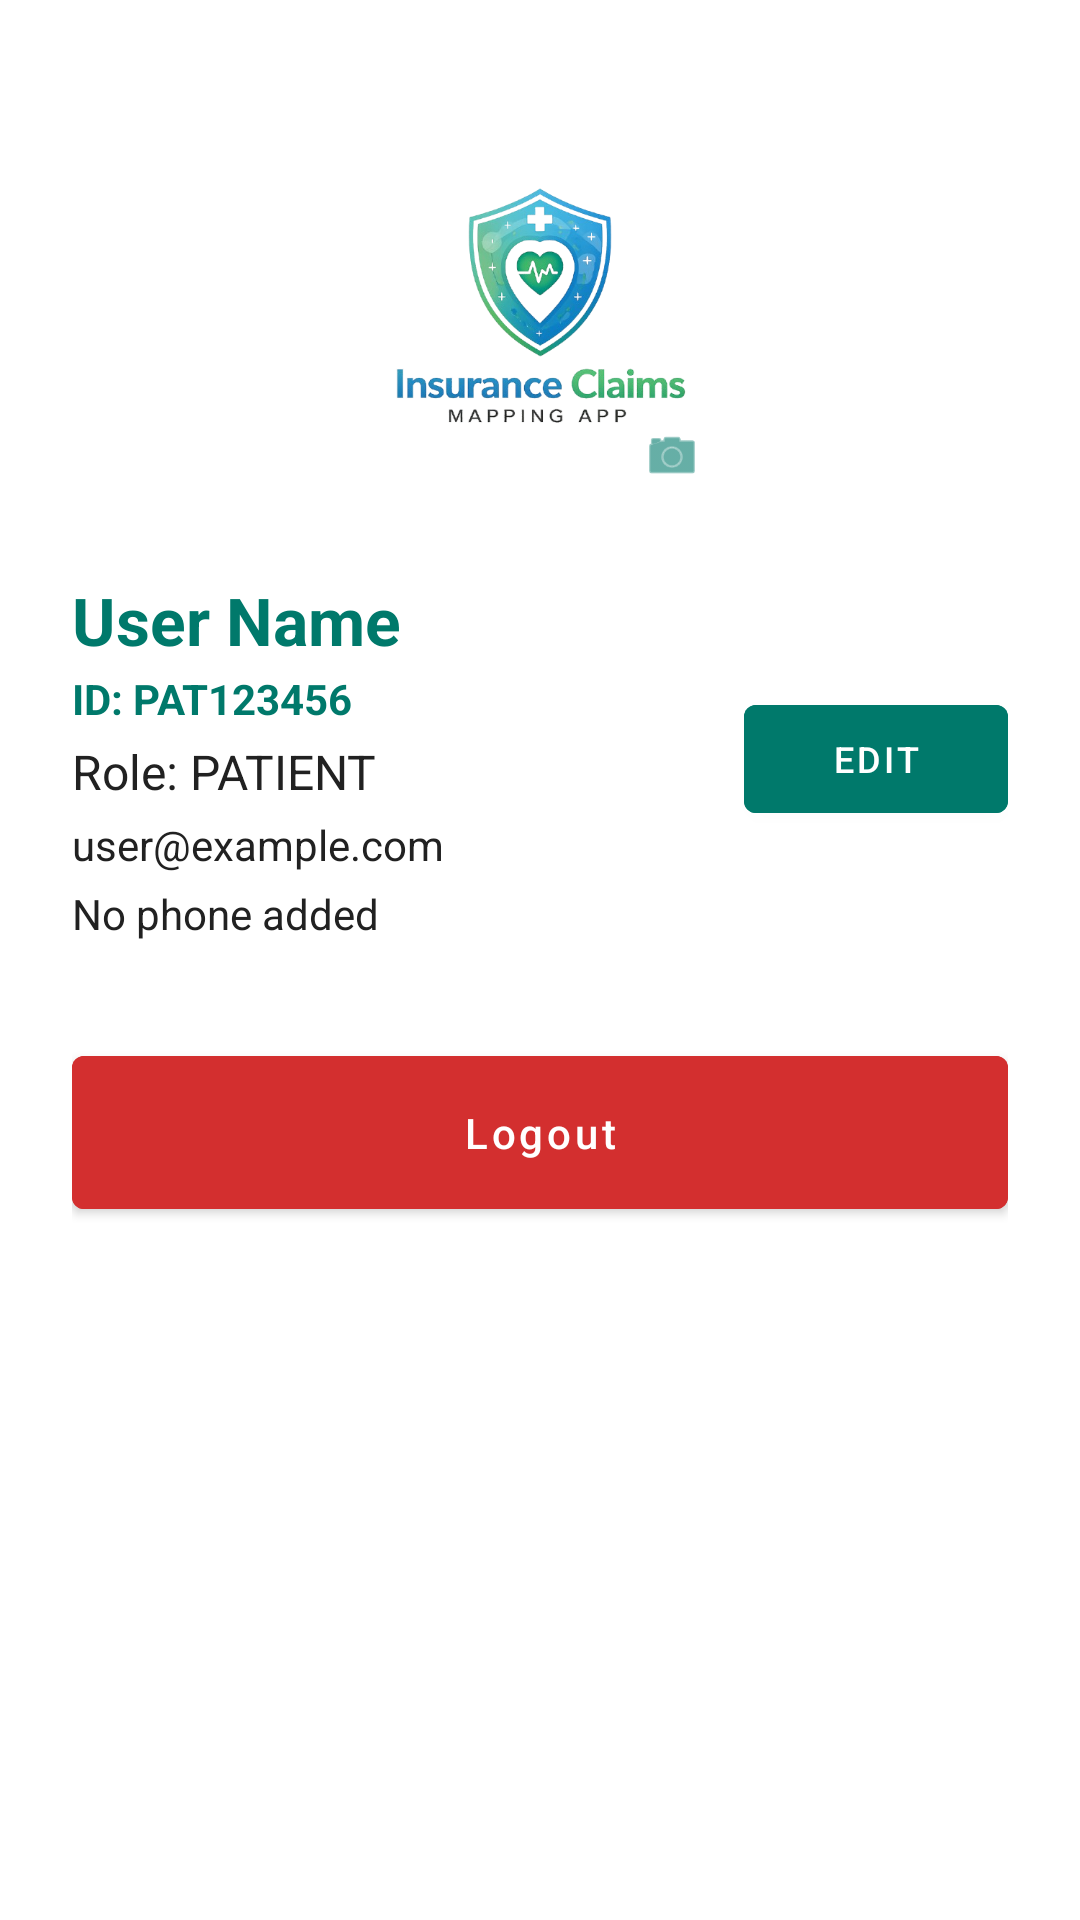

Where to tap for icons on this 1080w x 1920h app screen, as (x=x, y=y):
camera: (x=672, y=455)
